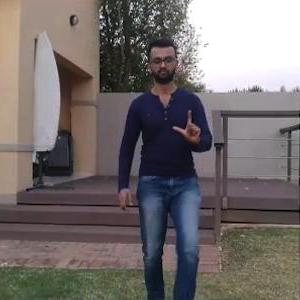land_hand: (171, 96, 209, 145)
